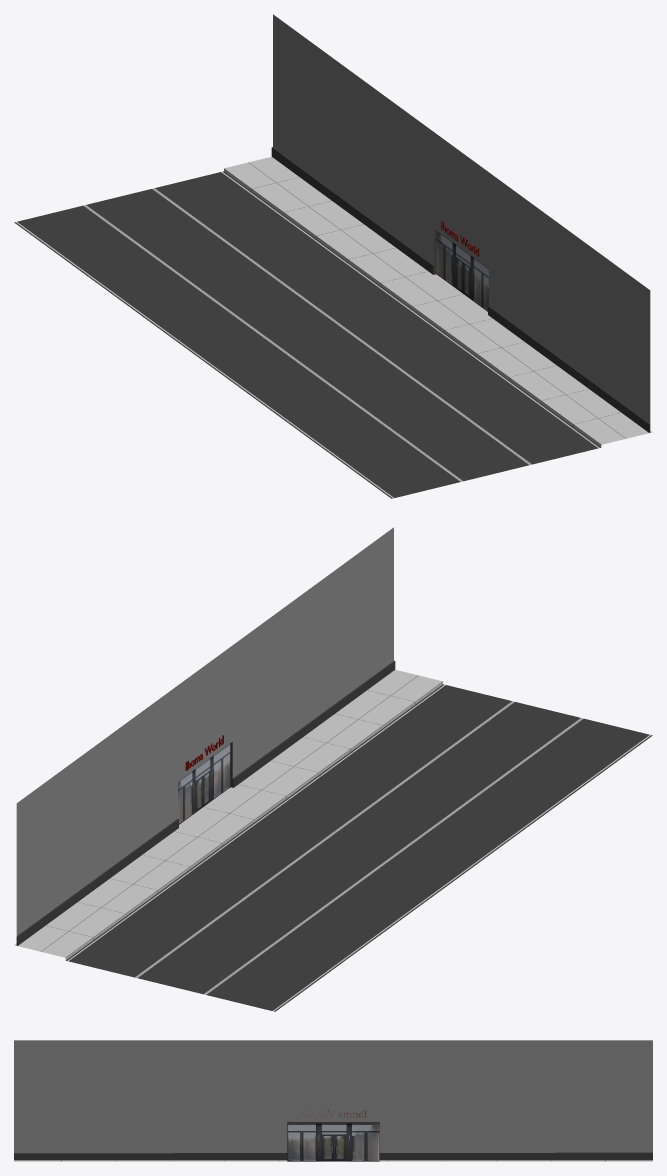
The model's file is MetaExterior.fbx.
3 renders of one model, top to bottom at view 1: azimuth 30°, elevation 25°; view 2: azimuth 150°, elevation 25°; view 3: azimuth 270°, elevation 25°, orthographic. The views are drawn at different scales.
Parts seen in each view (by area): view 1: Circle.017; view 2: Circle.017; view 3: Circle.017.
Boxes of the visible parts, <box> form: Circle.017: <box>14,14,652,498</box>; Circle.017: <box>14,527,652,1011</box>; Circle.017: <box>14,1040,652,1161</box>.
Bounding box in the file's own units: 5954 × 3161 × 14902.
Materials: 3 (2 with a texture image).
